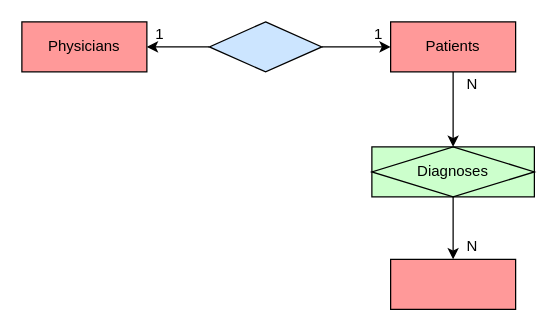
Some shapes in this 556 by 331 pixel diagram are drawn without their labels. The centre of each missing label's shape, as x and y in pixels:
Cares for: [265,46]
Conditions: [452,283]
